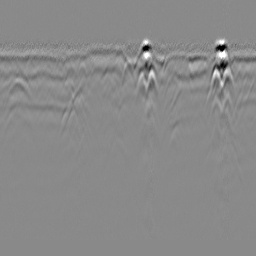cavity: (121, 62, 136, 86)
